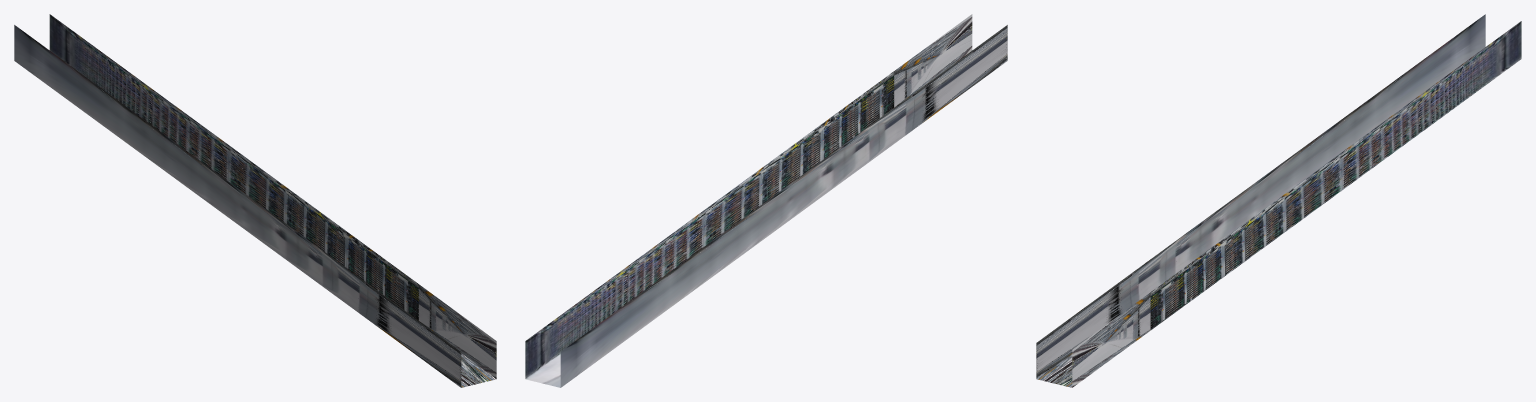
File: ProjectionTest04.fbx
3 views of the same model, side by side, from view 1: azimuth 30°, elevation 25°; view 2: azimuth 150°, elevation 25°; view 3: azimuth 330°, elevation 25° (orthographic).
Visible parts, largest first — view 1: ProjectCages12; view 2: ProjectCages12; view 3: ProjectCages12.
Part boxes in pixels (box(x1,y1,x2,y2)): ProjectCages12: box(14, 14, 496, 387); ProjectCages12: box(525, 14, 1007, 387); ProjectCages12: box(1036, 14, 1521, 387).
Bounding box in the file's own units: 3.21 × 3.29 × 69.88.
